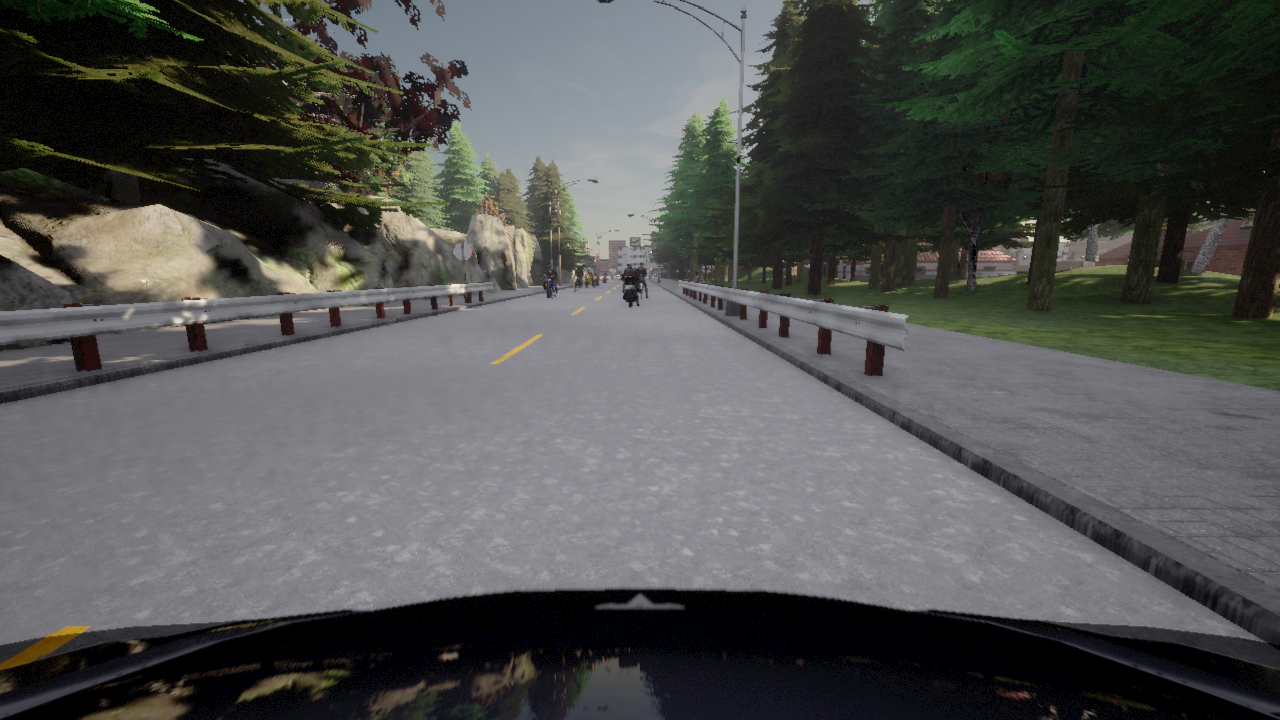cyclist: (0, 588, 1279, 719), (620, 274, 640, 306), (539, 275, 555, 297), (582, 274, 596, 287), (548, 276, 556, 298), (640, 282, 643, 294), (577, 281, 580, 292), (595, 277, 597, 286)
pedestrian: (694, 273, 698, 282)
